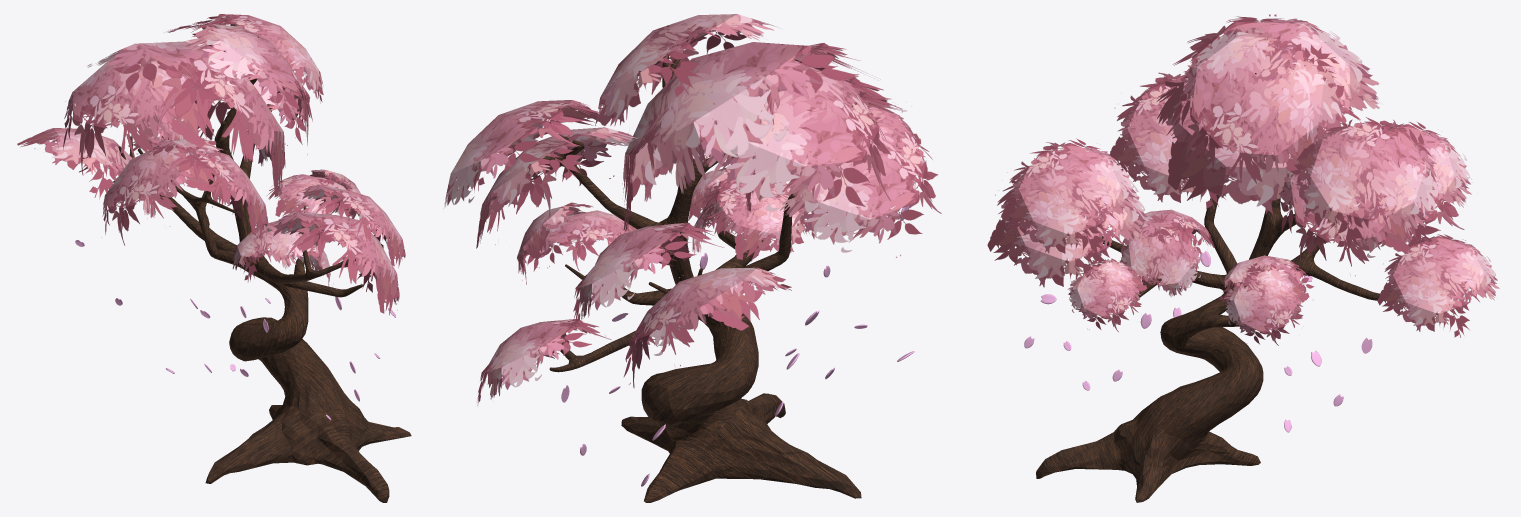
The model's file is sakura.glb.
3 renders of one model, left to right at view 1: azimuth 30°, elevation 25°; view 2: azimuth 150°, elevation 25°; view 3: azimuth 270°, elevation 25°, orthographic. The views are drawn at different scales.
Visible parts, largest first — view 1: Plane.004, pPlane17, pPlane23, pPlane19, pPlane24, pPlane21, pPlane20, pPlane28, pPlane22, pPlane18, pPlane30, pPlane25 (+3 smaller); view 2: Plane.004, pPlane17, pPlane23, pPlane24, pPlane28, pPlane19, pPlane18, pPlane27, pPlane16, pPlane30, pPlane15, pPlane25 (+3 smaller); view 3: Plane.004, pPlane19, pPlane18, pPlane17, pPlane22, pPlane15, pPlane21, pPlane20, pPlane26, pPlane27, pPlane14, pPlane29 (+4 smaller).
Part boxes in pixels (<box>): Plane.004: <box>118,37,411,502</box>; pPlane17: <box>87,41,285,196</box>; pPlane23: <box>58,57,215,175</box>; pPlane19: <box>164,21,312,141</box>; pPlane24: <box>101,137,224,245</box>; pPlane21: <box>256,212,399,315</box>; pPlane20: <box>136,139,268,237</box>; pPlane28: <box>17,128,155,217</box>; pPlane22: <box>296,184,405,267</box>; pPlane18: <box>191,14,323,103</box>; pPlane30: <box>232,220,315,282</box>; pPlane25: <box>267,174,352,217</box>; Plane.004: <box>515,25,861,502</box>; pPlane17: <box>622,42,880,231</box>; pPlane23: <box>702,60,891,229</box>; pPlane24: <box>780,103,941,257</box>; pPlane28: <box>623,267,791,388</box>; pPlane19: <box>595,14,776,126</box>; pPlane18: <box>443,100,600,208</box>; pPlane27: <box>476,127,637,248</box>; pPlane16: <box>573,222,724,322</box>; pPlane30: <box>695,179,815,261</box>; pPlane15: <box>477,319,611,405</box>; pPlane25: <box>537,210,636,271</box>; Plane.004: <box>1036,73,1390,502</box>; pPlane19: <box>1166,26,1347,195</box>; pPlane18: <box>1290,117,1443,251</box>; pPlane17: <box>1147,14,1379,214</box>; pPlane22: <box>1001,138,1137,259</box>; pPlane15: <box>1377,234,1499,337</box>; pPlane21: <box>987,160,1147,287</box>; pPlane20: <box>1109,71,1225,209</box>; pPlane26: <box>1223,263,1309,345</box>; pPlane27: <box>1271,138,1416,276</box>; pPlane14: <box>1119,213,1208,296</box>; pPlane29: <box>1067,258,1147,331</box>.
Size of the model in its own units: 12.67 by 16.64 by 19.36.
11 materials, 10 textured.
